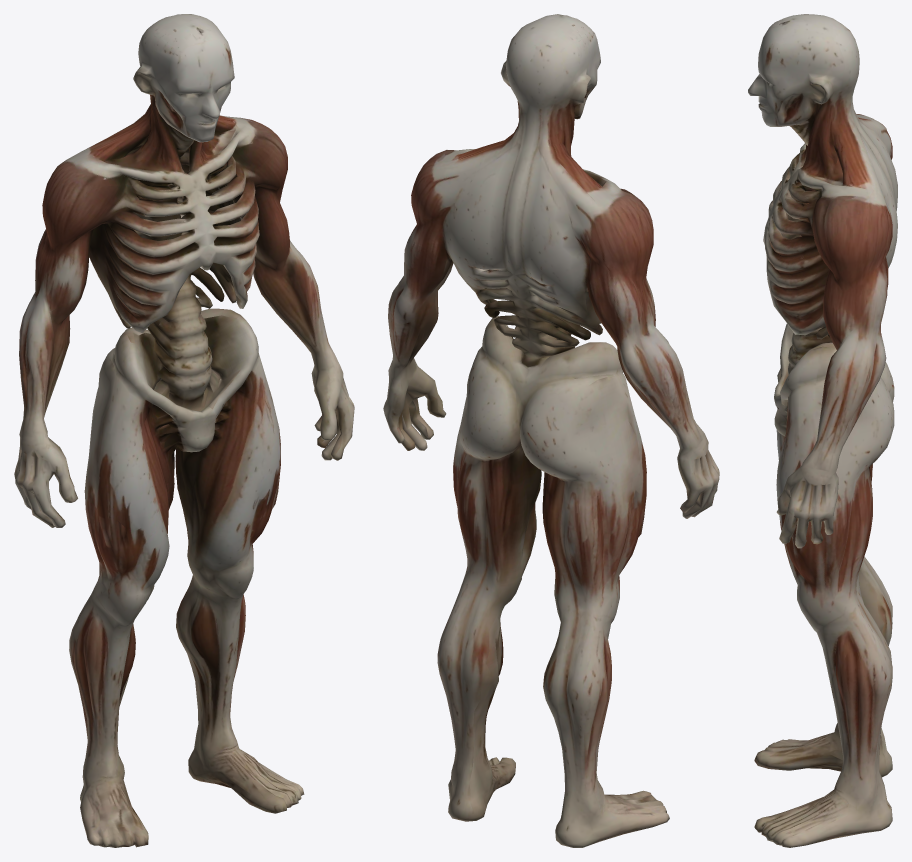
The model's file is Ruins__weathered_f2d800be_v2.cluster.glb.
3 renders of one model, left to right at view 1: azimuth 30°, elevation 25°; view 2: azimuth 150°, elevation 25°; view 3: azimuth 270°, elevation 25°, orthographic.
Visible parts, largest first — view 1: material; view 2: material; view 3: material.
Part boxes in pixels (x1,y1,x2,y2): material: (14, 14, 354, 847); material: (383, 14, 719, 847); material: (748, 14, 897, 847).
Bounding box in the file's own units: 0.8299 × 1.9 × 0.3301.
1 material, 1 textured.
